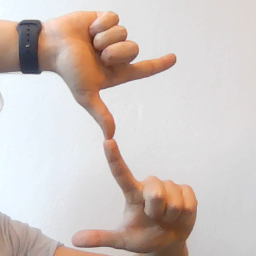Z: (41, 5, 204, 253)
